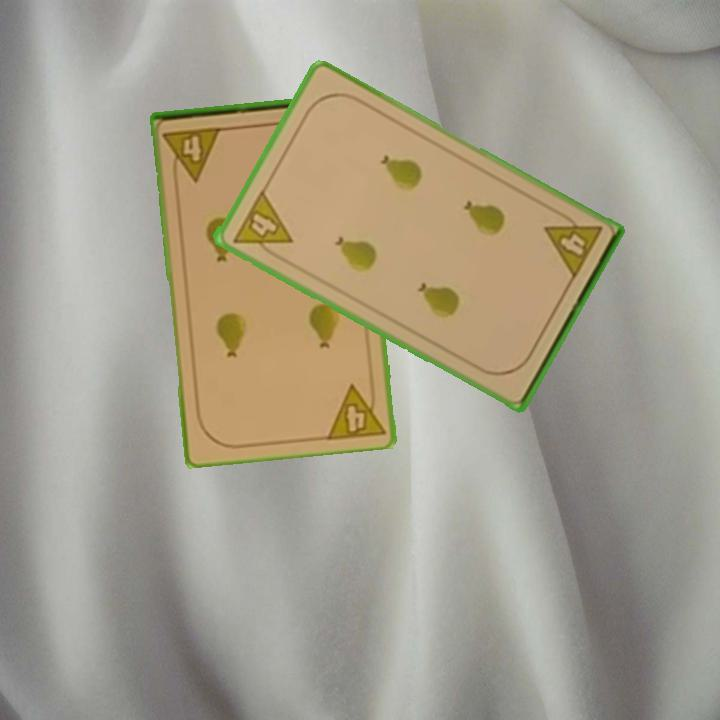4p: (229, 186, 295, 263), (540, 206, 605, 283), (323, 377, 388, 443), (160, 123, 225, 184)
